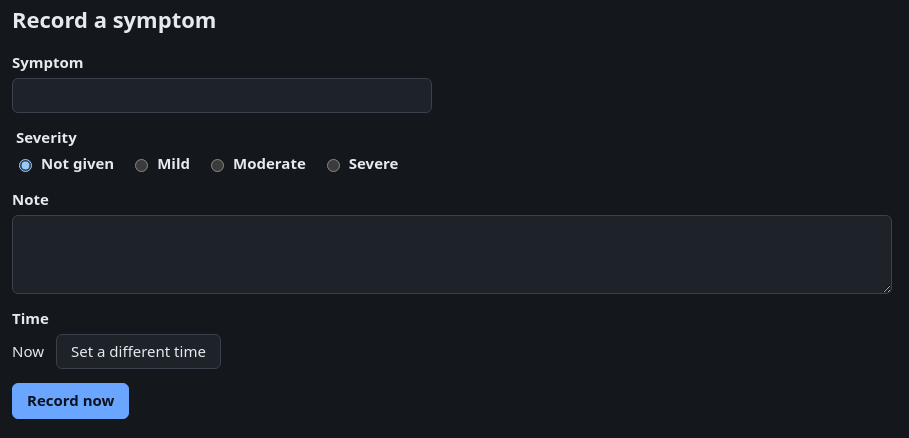
Scenario: the recording form › offers the current time and lets another be set
This screenshot has width=909, height=438.
Expected: the text "Now" is shown, [12,341,44,362]
Click the button "Set a different time".
click(138, 352)  # box [56,334,221,369]
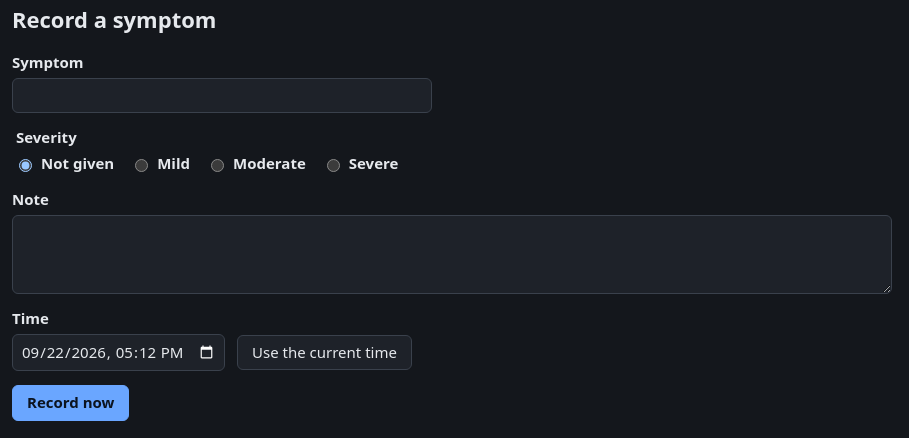
Expected: the field labelled "Time" holds "2026-09-22T17:12"
Replace the text in the field labelled "Time" with "2026-09-22T12:30" at coordinates (118, 352), box [12,334,225,371]
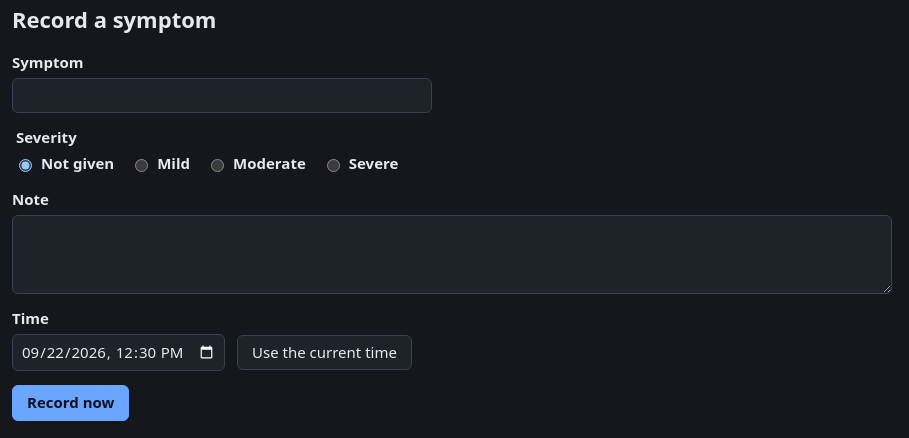
Type "Headache" into the dropdown labelled "Symptom".
click(222, 96); type("Headache")  # box [12,78,432,113]
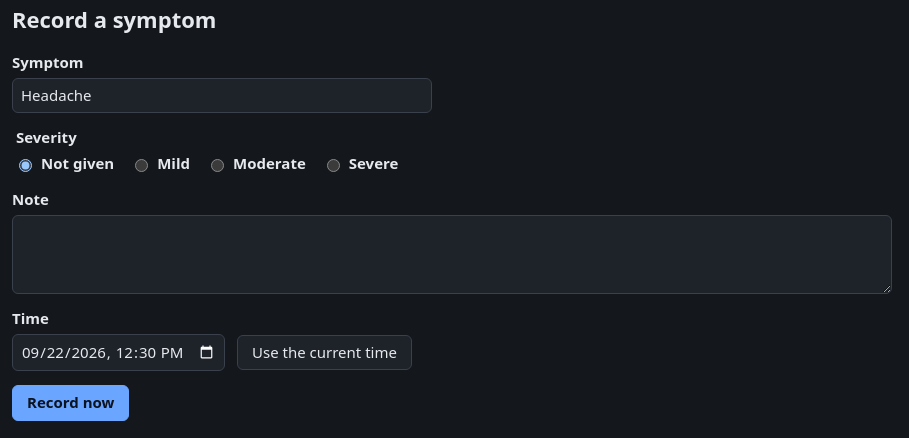
Click the button "Record now".
click(71, 403)  # box [12,385,129,421]
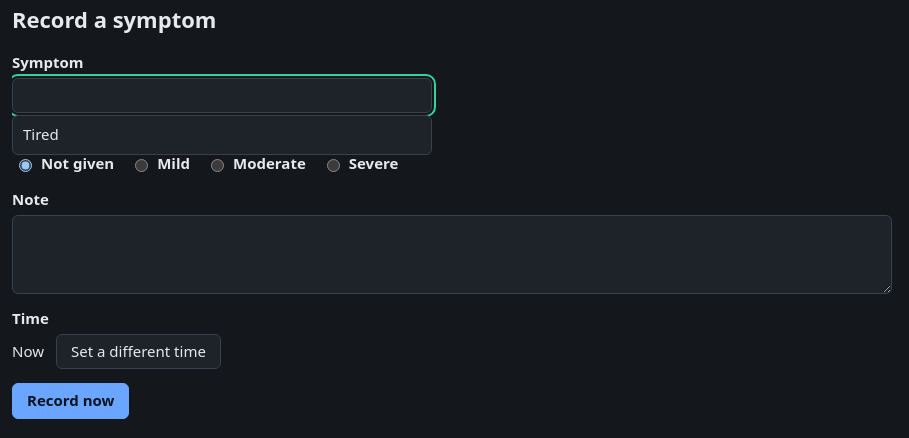
Expected: the text "Now" is shown, [12,341,44,362]
